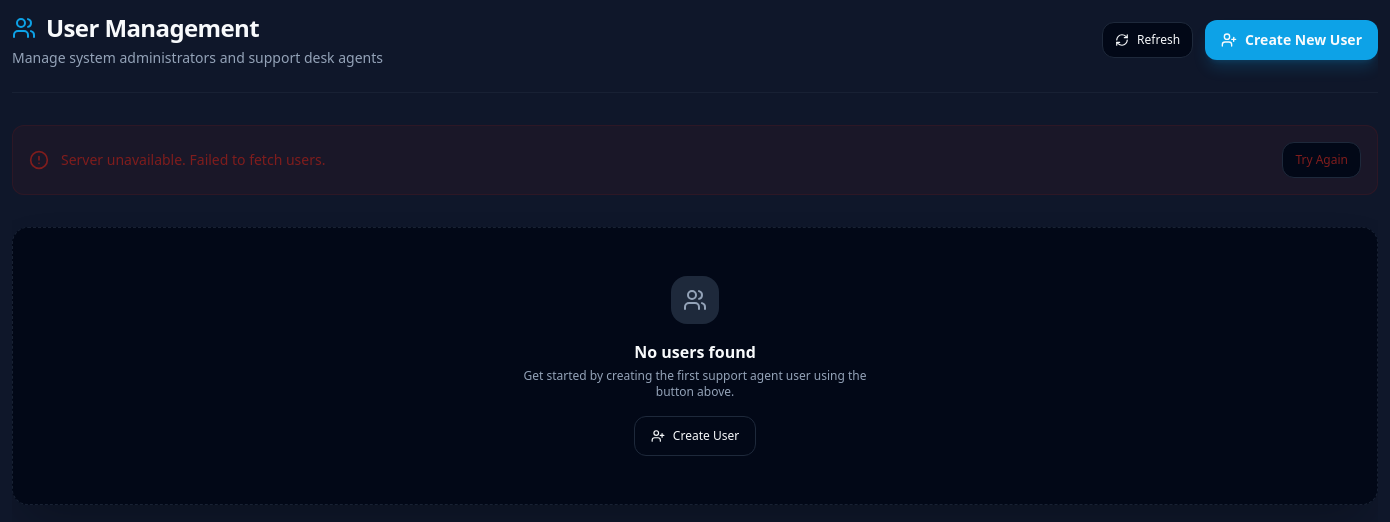
Test: UsersPage Component › should render error banner and allow retrying on fetch failure
Expected: the text "Server unavailable. Failed to fetch users." is shown, [61,150,325,170]
Note: Click "Try Again"
Click the button "Try Again" at x=1322, y=160, box [1282,142,1361,178]
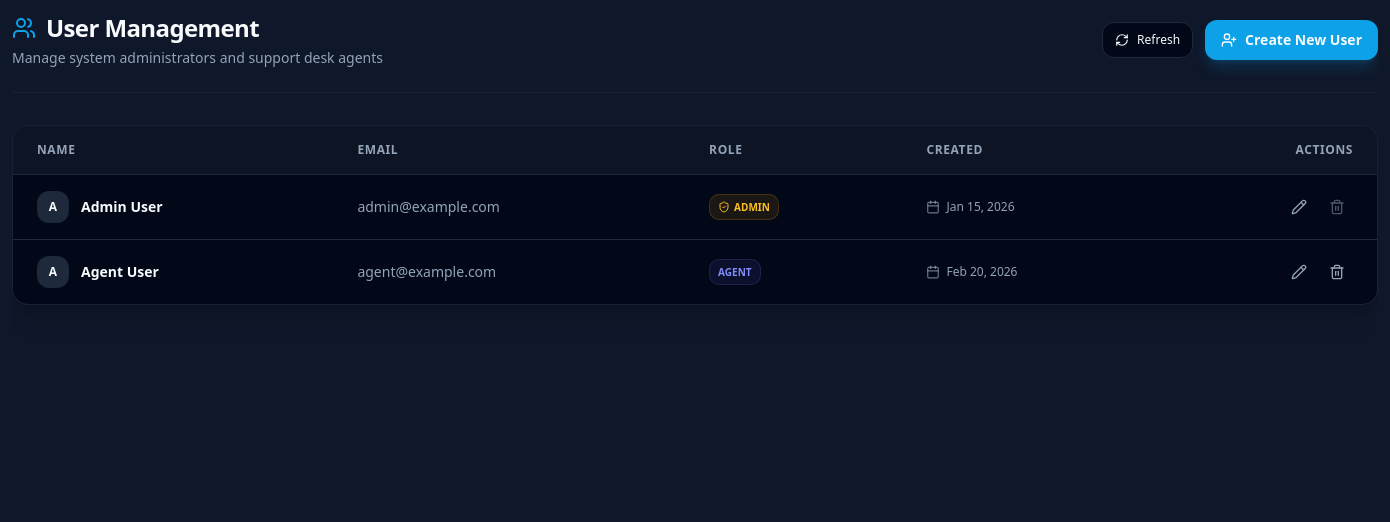
Now the text "Admin User" is shown, box [81,197,163,217]
